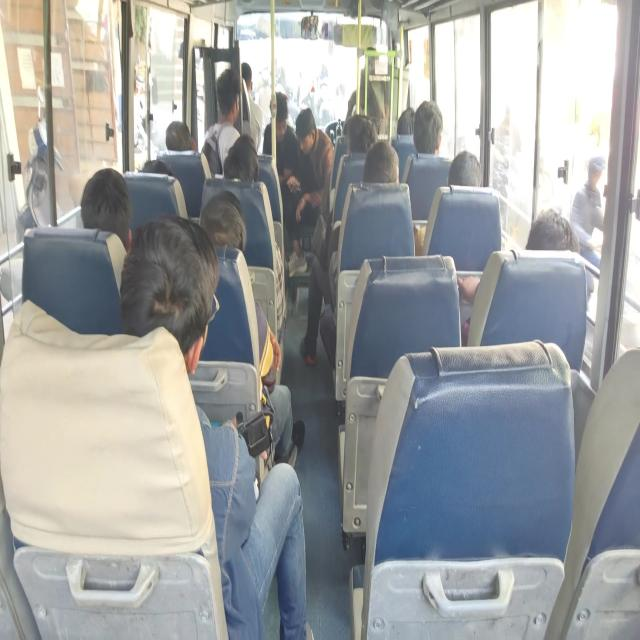person: (119, 216, 313, 638), (199, 190, 305, 466), (299, 140, 400, 366), (457, 206, 580, 344), (285, 107, 334, 274), (262, 90, 302, 262), (16, 147, 63, 244), (80, 167, 132, 254), (201, 68, 242, 177), (570, 155, 606, 268), (262, 91, 298, 184), (525, 207, 580, 253), (240, 61, 263, 152), (412, 99, 443, 155), (223, 134, 259, 182), (362, 140, 400, 184), (345, 113, 376, 155), (448, 150, 482, 187), (165, 120, 195, 151), (396, 107, 415, 135)
